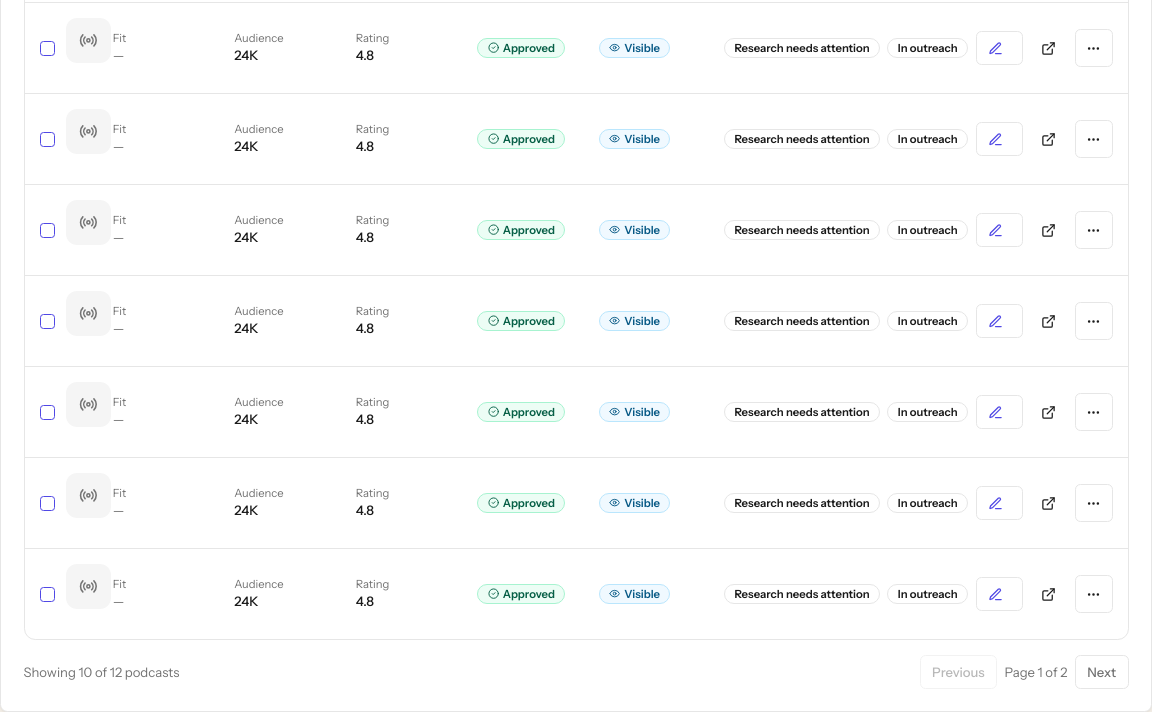
ClientShortlistEditor › shows no more than ten podcasts on each list page
(page scrolled)
Check: the button named "View details for Podcast 10" is shown, box [66, 564, 102, 624]
Check: the text "Showing 10 of 12 podcasts" is shown, box [24, 662, 180, 681]
Click the button "Next" at (1102, 672), box [1075, 655, 1128, 689]
(page scrolled)
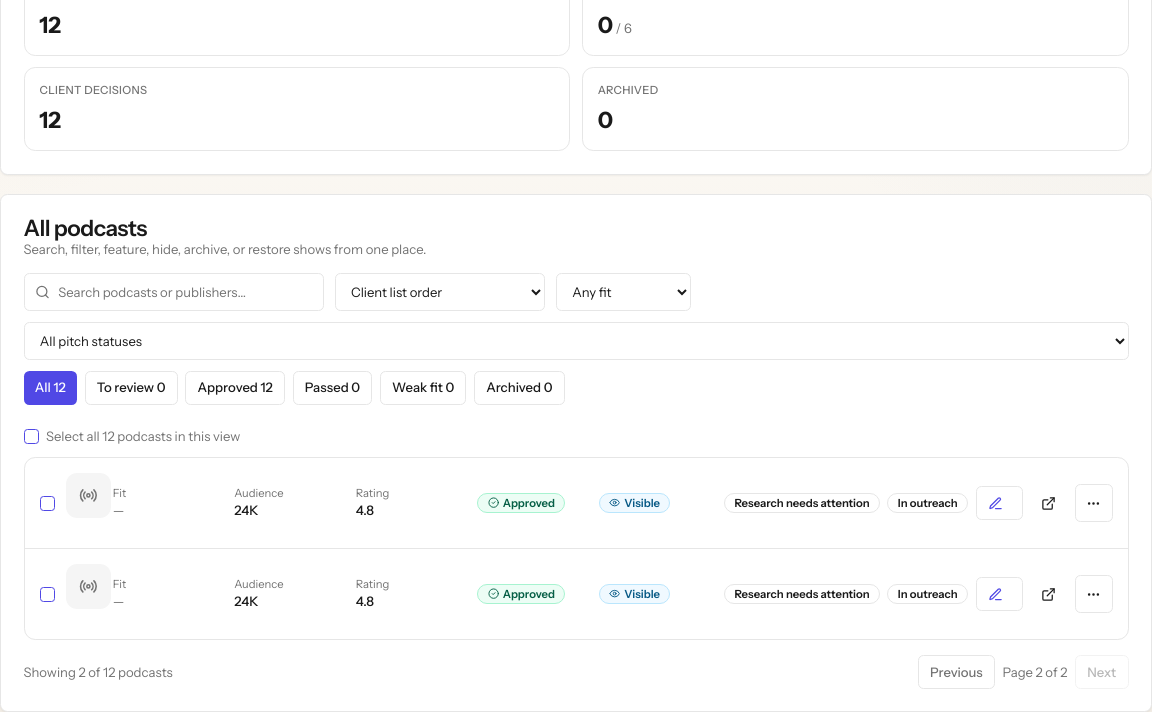
Check: the button named "View details for Podcast 11" is shown, box [66, 473, 102, 533]
Check: the text "Showing 2 of 12 podcasts" is shown, box [24, 662, 173, 681]
